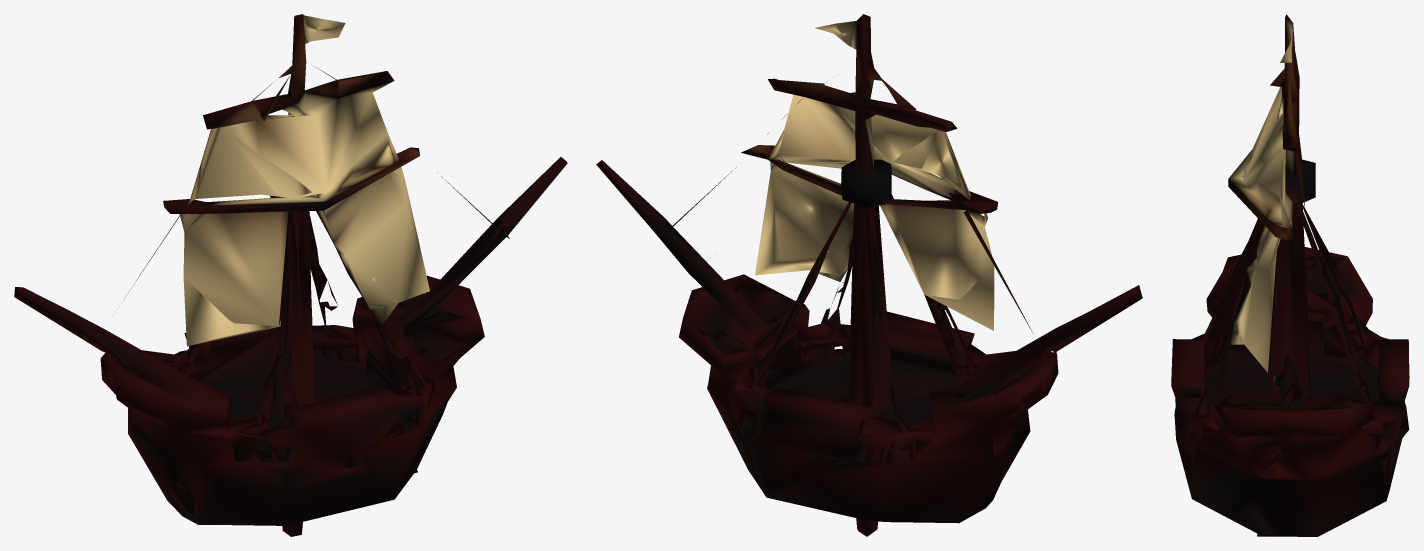
The model's file is gen3d-pirate-ship-lod1.glb.
The picture shows the model from 3 angles, left to right: view 1: azimuth 30°, elevation 25°; view 2: azimuth 150°, elevation 25°; view 3: azimuth 270°, elevation 25°; orthographic projection.
Visible parts, largest first — view 1: part_0; view 2: part_0; view 3: part_0.
Part boxes in pixels (x1,y1,x2,y2): part_0: [14, 14, 567, 536]; part_0: [596, 14, 1142, 536]; part_0: [1171, 14, 1409, 536].
Bounding box in the file's own units: 1.1 × 0.9921 × 0.4148.
